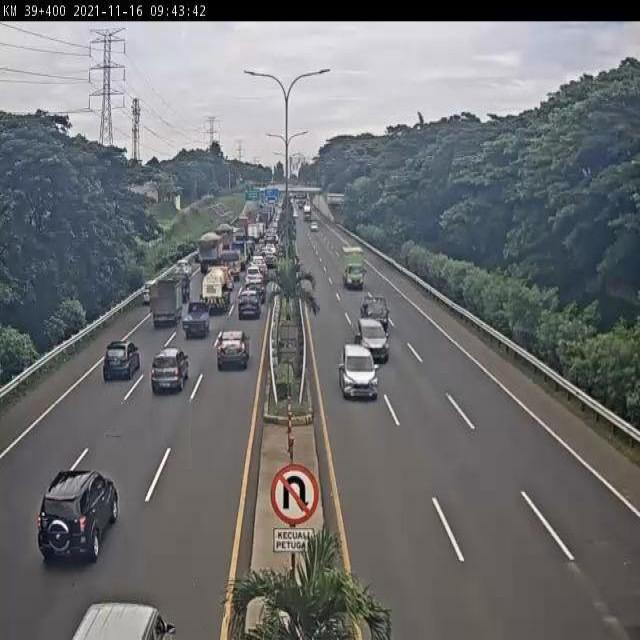car: (26, 448, 130, 587), (62, 596, 183, 639), (86, 331, 141, 396), (141, 342, 193, 402), (207, 321, 253, 380), (338, 342, 380, 402), (356, 308, 391, 363), (180, 297, 214, 343), (359, 289, 392, 331), (233, 283, 265, 321), (131, 276, 158, 313), (173, 269, 198, 303), (245, 279, 270, 309), (154, 271, 176, 296), (244, 263, 264, 285), (244, 273, 265, 292), (185, 247, 202, 269), (252, 253, 267, 272), (264, 251, 278, 268)
small truck: (135, 273, 189, 335), (339, 240, 370, 291), (219, 247, 246, 284)
truck-m-: (197, 264, 234, 319), (196, 227, 230, 277), (212, 222, 234, 255)
